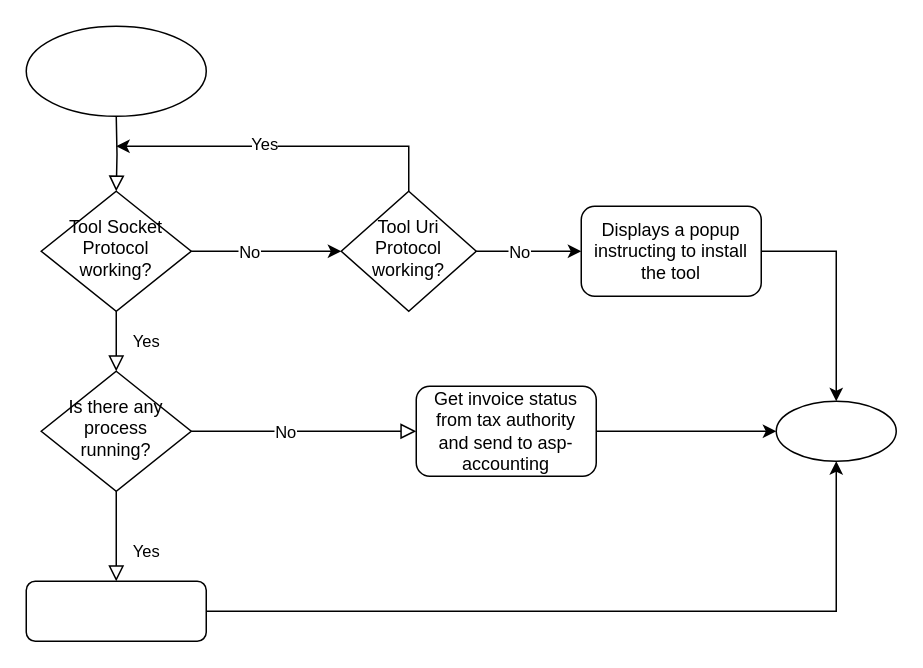
Image size: 923x668. Some labels were removed from this diagram. Each missing label, with the box of its shape:
Check the invoice status again: (25, 25, 206, 116)
End: (775, 400, 896, 461)
Show warning in progress: (25, 580, 206, 641)
